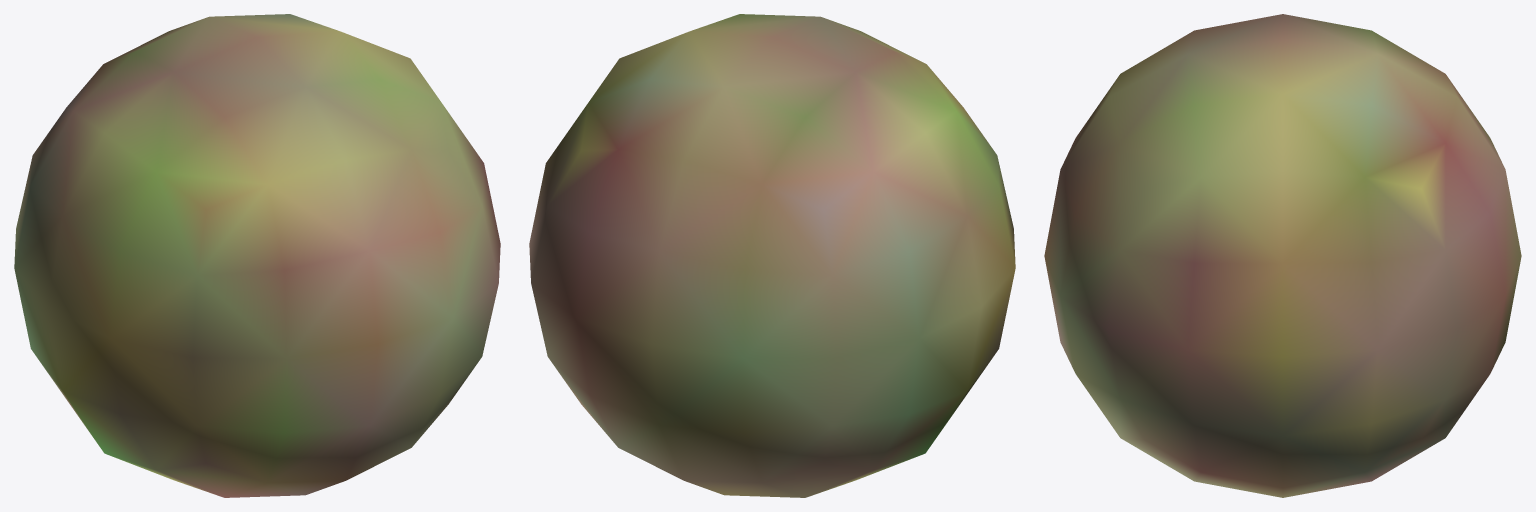
Rendered from space-planets-moons-alien-planet_v2.glb.
The picture shows the model from 3 angles, left to right: view 1: azimuth 30°, elevation 25°; view 2: azimuth 150°, elevation 25°; view 3: azimuth 270°, elevation 25°; orthographic projection.
Visible parts, largest first — view 1: Alien Planet_v2; view 2: Alien Planet_v2; view 3: Alien Planet_v2.
Part boxes in pixels (x1=…): Alien Planet_v2: x1=14, y1=14, x2=500, y2=497; Alien Planet_v2: x1=529, y1=14, x2=1015, y2=497; Alien Planet_v2: x1=1044, y1=14, x2=1521, y2=497.
Size of the model in its own units: 0.5 by 0.5 by 0.5.
